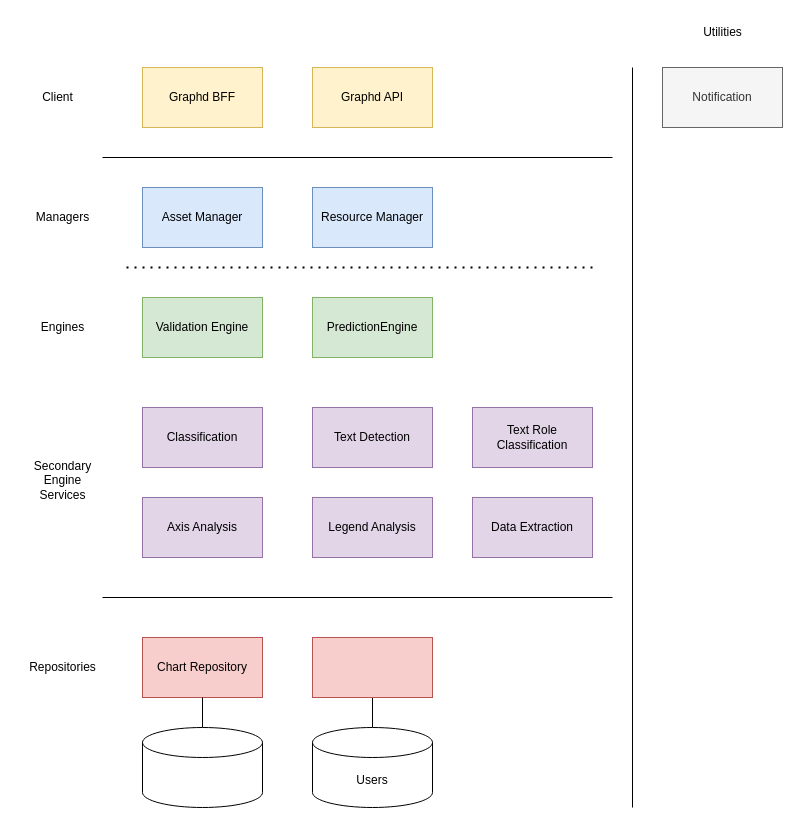
Some shapes in this 800 by 826 pixel diagram are drawn without their labels. Here are the shapes that lost their labels. From the top down, the centre of each, then its label:
At pixel 372 667: "User Repository".
At pixel 202 767: "Charts".
